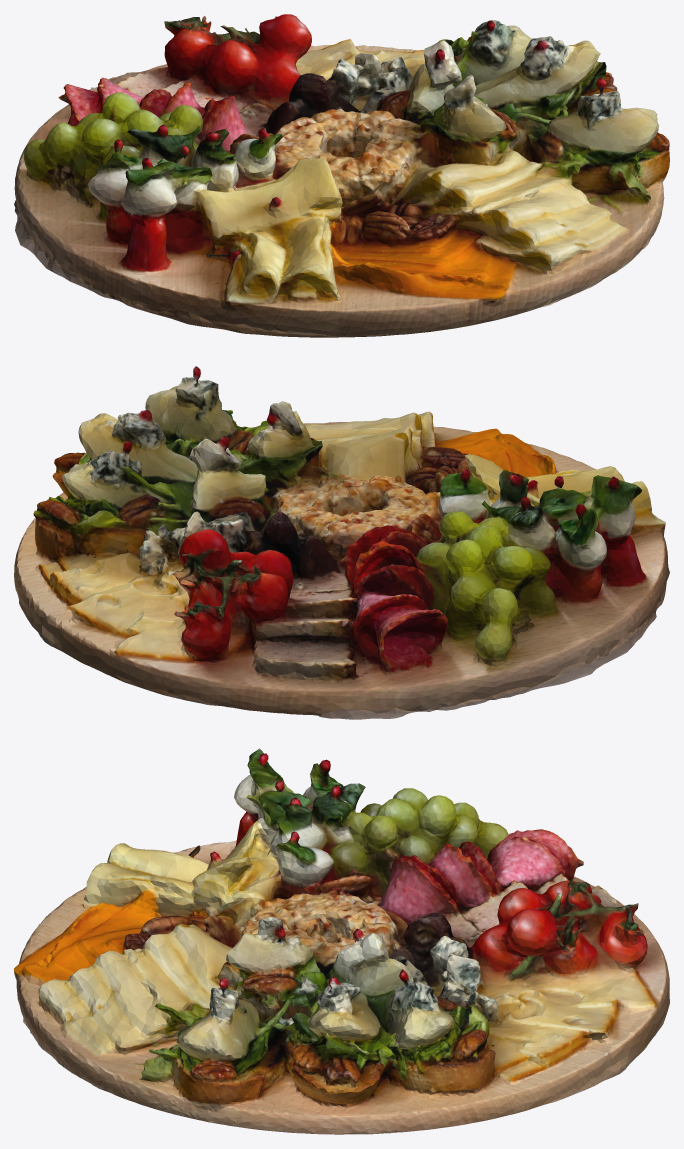
The model's file is snacks-2.glb.
3 renders of one model, top to bottom at view 1: azimuth 30°, elevation 25°; view 2: azimuth 150°, elevation 25°; view 3: azimuth 270°, elevation 25°, orthographic.
Parts seen in each view (by area): view 1: Mesh_0.004; view 2: Mesh_0.004; view 3: Mesh_0.004.
Boxes of the visible parts, box(x1,y1,x2,y2) form: Mesh_0.004: box(14, 14, 669, 337); Mesh_0.004: box(14, 366, 669, 719); Mesh_0.004: box(14, 748, 669, 1134).
Size of the model in its own units: 0.3974 by 0.0862 by 0.3944.
Materials: 1 (1 with a texture image).
